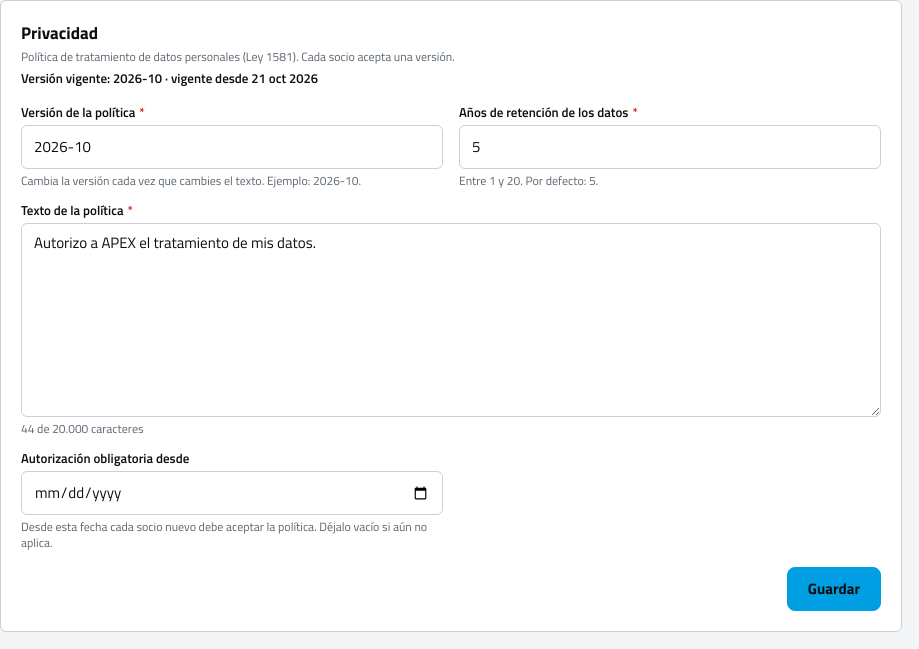
Test: PrivacySettingsForm › con la misma versión guarda sin confirmar (por ejemplo, años de retención)
The width and height of the screenshot is (919, 649).
Check: the field labelled "Versión de la política*" is shown, box [21,125,443,169]
Replace the text in the number field labelled "Años de retención de los datos*" with "10" at (670, 147), box [459,125,881,169]
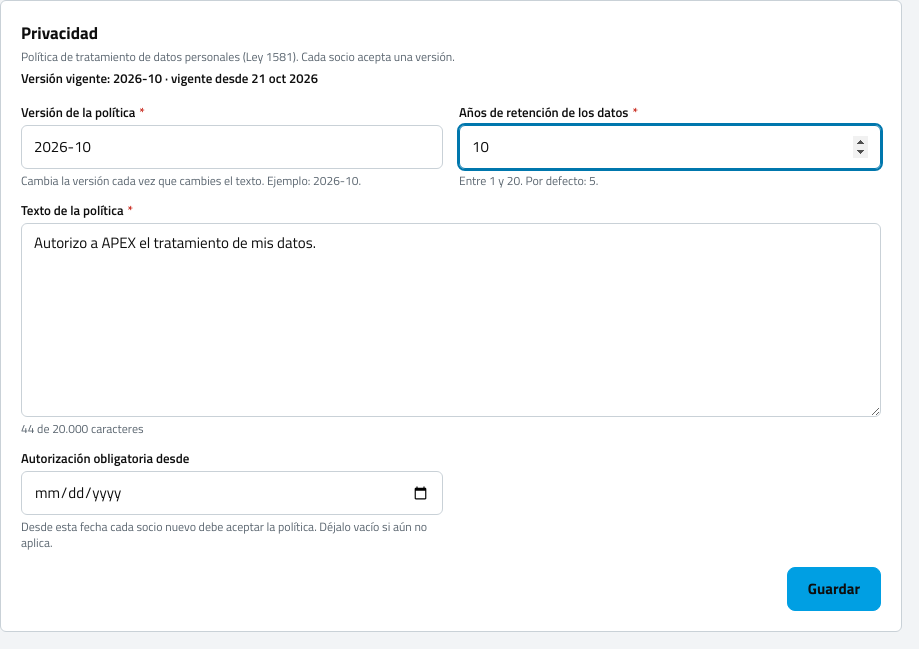
Click the button "Guardar" at (834, 589), box [787,567,881,611]
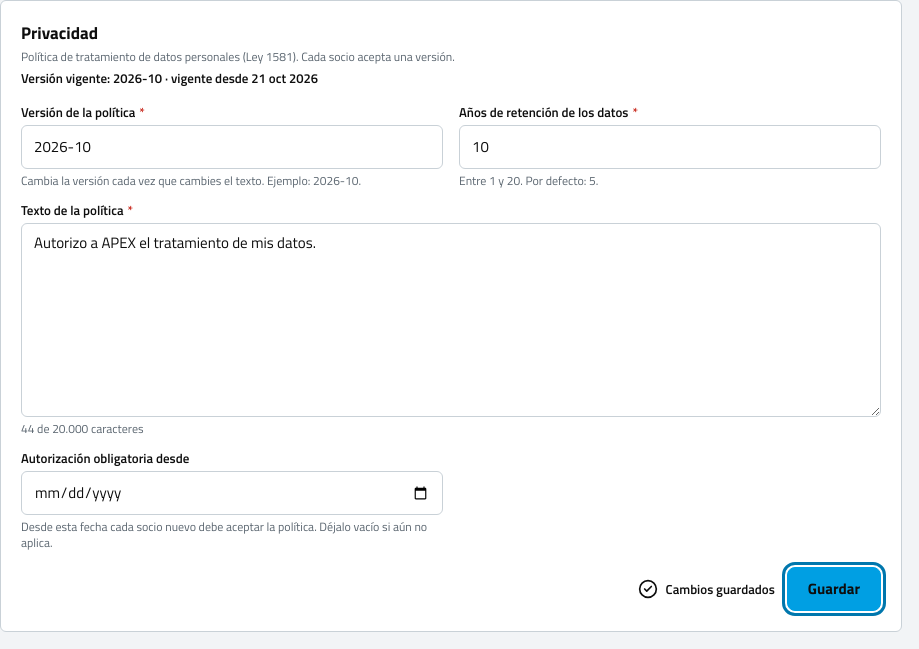
Check: the text "Cambios guardados" is shown, box [638,579,775,599]
